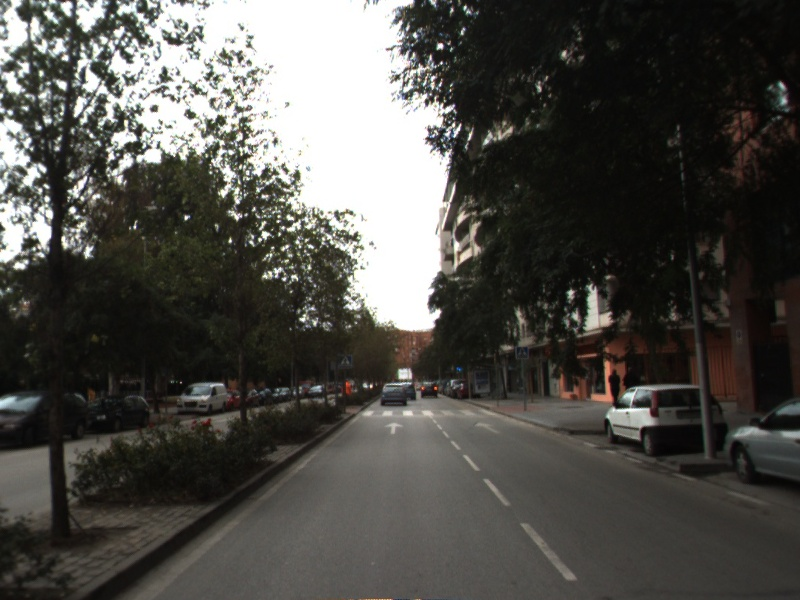STRAIGHT: (472, 420, 503, 435), (382, 421, 406, 436)
